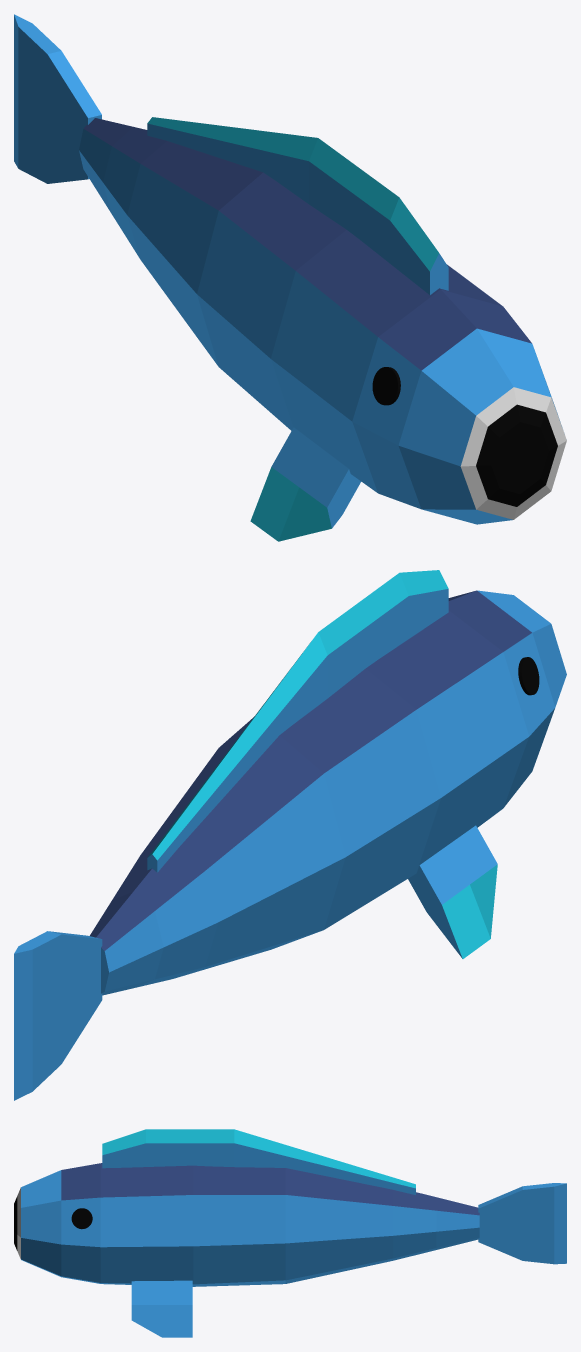
The model's file is low_poly_fish.fbx.
The picture shows the model from 3 angles, top to bottom: view 1: azimuth 30°, elevation 25°; view 2: azimuth 150°, elevation 25°; view 3: azimuth 270°, elevation 25°; orthographic projection. The views are drawn at different scales.
Visible parts, largest first — view 1: Cube, Cube.001, Cube.004, Cube.003, Cylinder.001; view 2: Cube, Cube.001, Cube.004, Cube.003, Cylinder.001; view 3: Cube, Cube.001, Cube.004, Cube.002, Cylinder.
Boxes of the visible parts, x1,y1,x2,y2 form: Cube: [79, 118, 566, 524]; Cube.001: [147, 117, 448, 294]; Cube.004: [14, 14, 101, 183]; Cube.003: [250, 427, 361, 541]; Cylinder.001: [372, 367, 400, 405]; Cube: [90, 590, 566, 995]; Cube.001: [147, 570, 448, 872]; Cube.004: [14, 931, 102, 1100]; Cube.003: [408, 825, 497, 958]; Cylinder.001: [518, 657, 539, 695]; Cube: [14, 1163, 479, 1286]; Cube.001: [102, 1129, 415, 1194]; Cube.004: [478, 1183, 566, 1264]; Cube.002: [131, 1280, 192, 1337]; Cylinder: [71, 1208, 92, 1229].
Bounding box in the file's own units: 302 × 448 × 1248.
